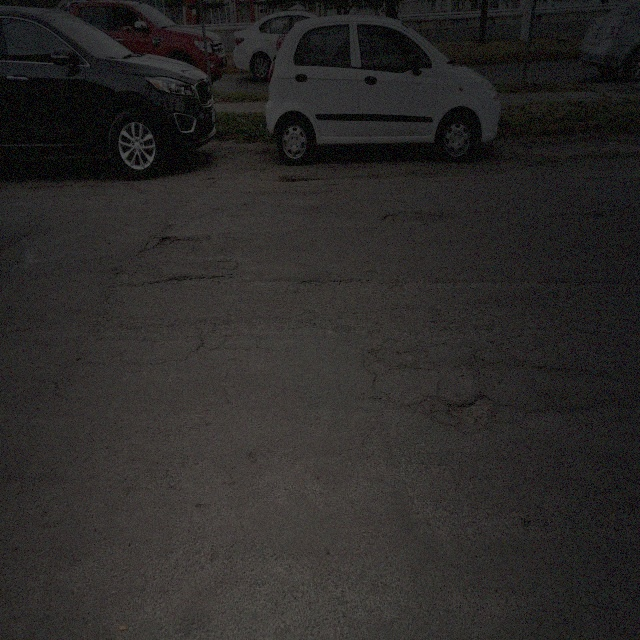pothole: (448, 394, 496, 428), (278, 171, 317, 185), (156, 229, 182, 247), (381, 213, 396, 225)
